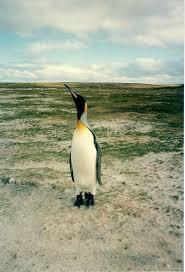king: (50, 75, 113, 221)
